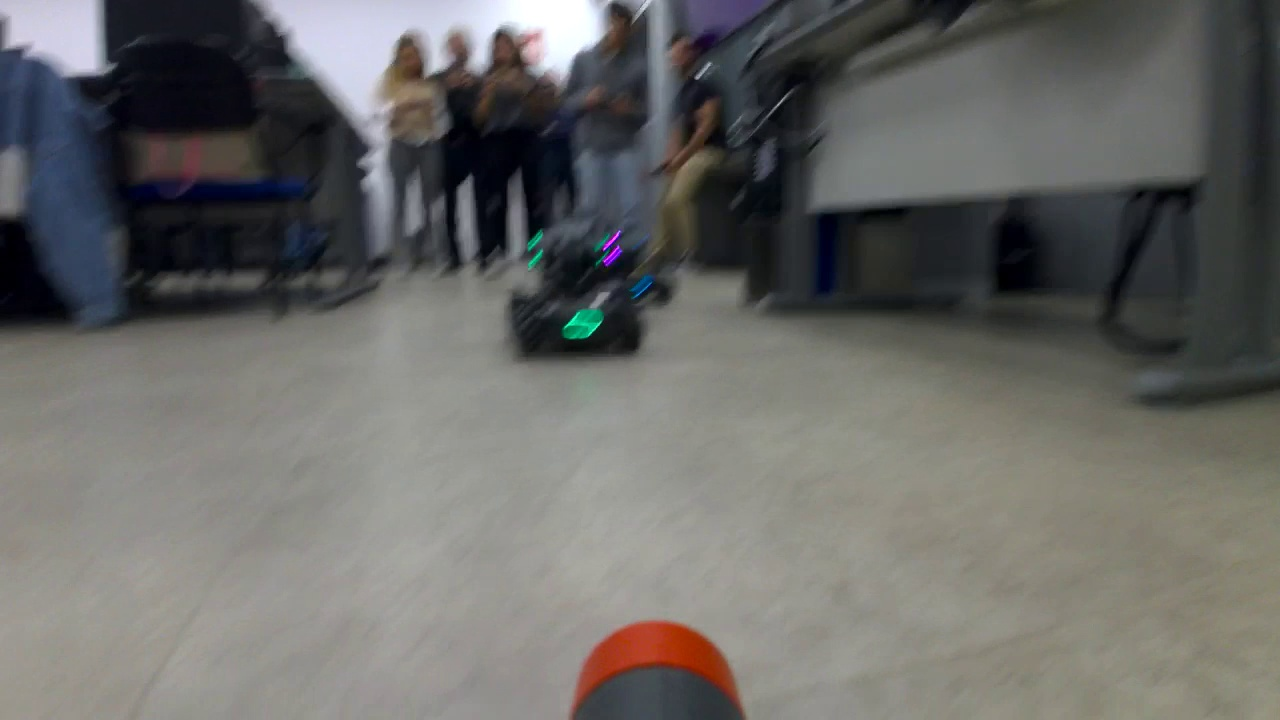robot: (510, 219, 642, 356)
